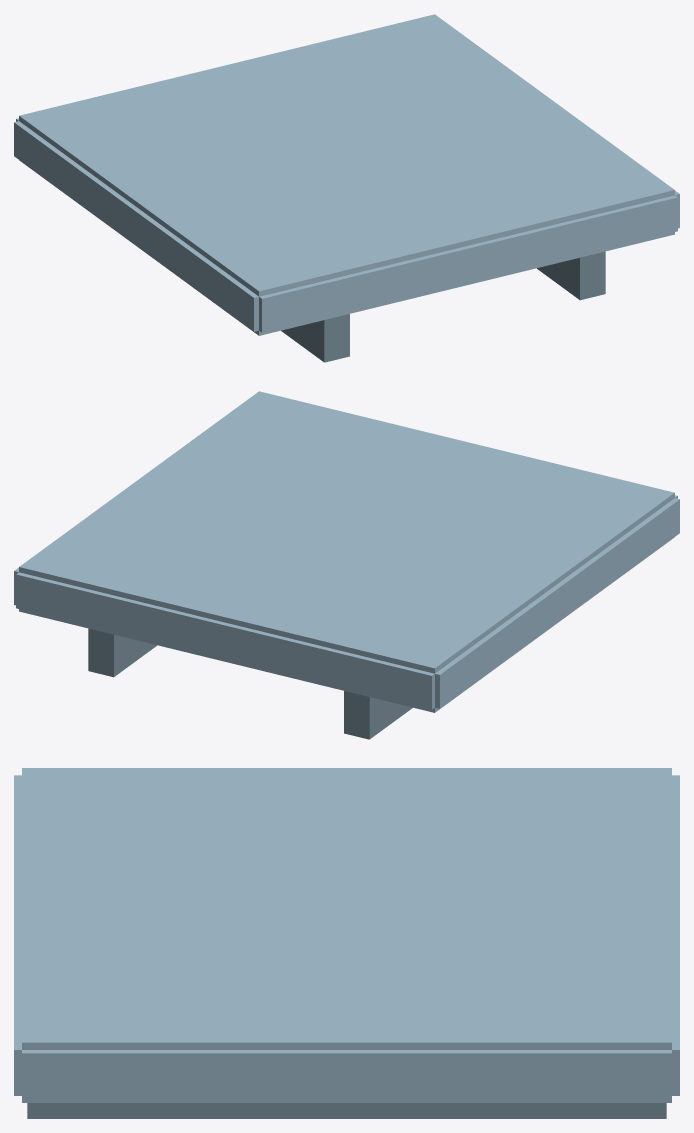
Rendered from glass_platform_v0.glb.
3 renders of one model, top to bottom at view 1: azimuth 30°, elevation 25°; view 2: azimuth 150°, elevation 25°; view 3: azimuth 270°, elevation 25°, orthographic. The views are drawn at different scales.
Visible parts, largest first — view 1: glass_platform_v0; view 2: glass_platform_v0; view 3: glass_platform_v0.
Part boxes in pixels (x1=…): glass_platform_v0: x1=14, y1=14, x2=679, y2=362; glass_platform_v0: x1=14, y1=391, x2=679, y2=739; glass_platform_v0: x1=14, y1=768, x2=679, y2=1118.
Size of the model in its own units: 1 by 0.2 by 1.
